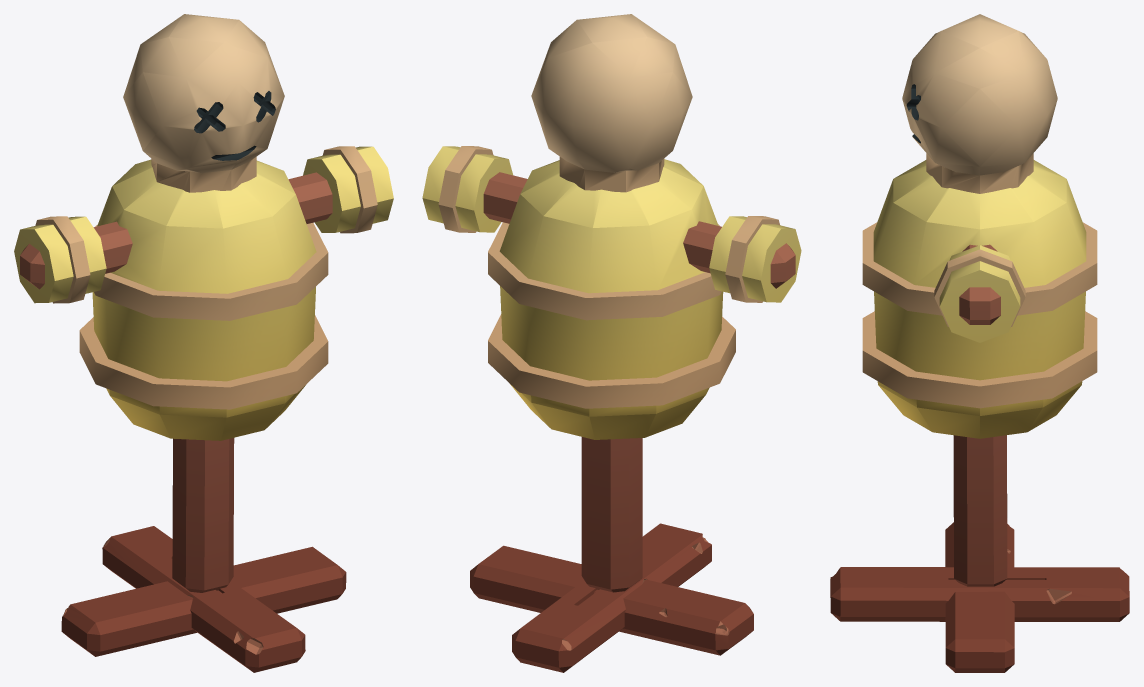
The model's file is training_dummy.glb.
The picture shows the model from 3 angles, left to right: view 1: azimuth 30°, elevation 25°; view 2: azimuth 150°, elevation 25°; view 3: azimuth 270°, elevation 25°; orthographic projection.
Visible parts, largest first — view 1: training_dummy; view 2: training_dummy; view 3: training_dummy.
Boxes of the visible parts, x1=… form: training_dummy: x1=14, y1=14, x2=393, y2=672; training_dummy: x1=422, y1=14, x2=801, y2=672; training_dummy: x1=830, y1=14, x2=1129, y2=672.
Bounding box in the file's own units: 1.52 × 2.44 × 1.11.
1 material, 1 textured.
